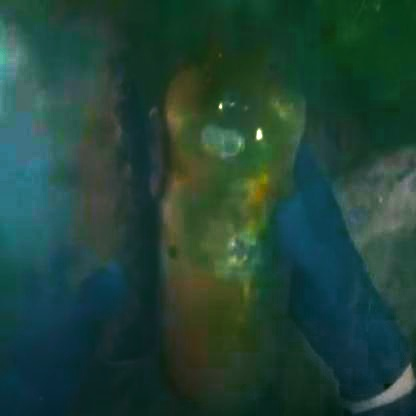gbottle: (159, 9, 309, 395)
